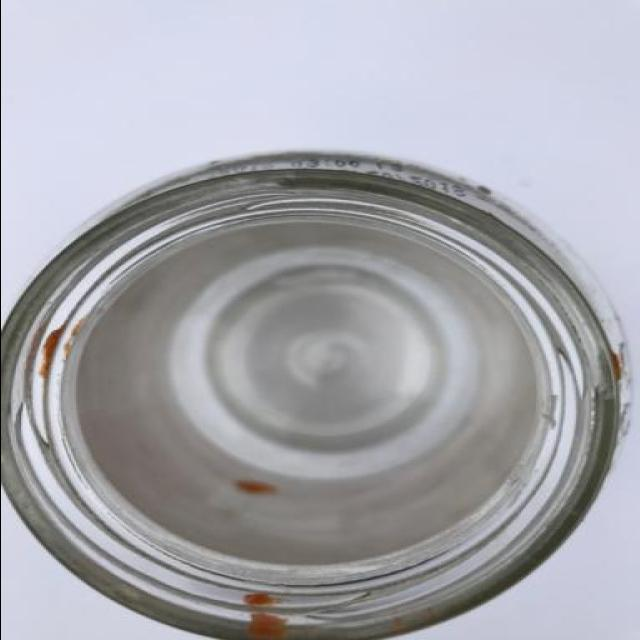glass: (1, 151, 640, 640)
